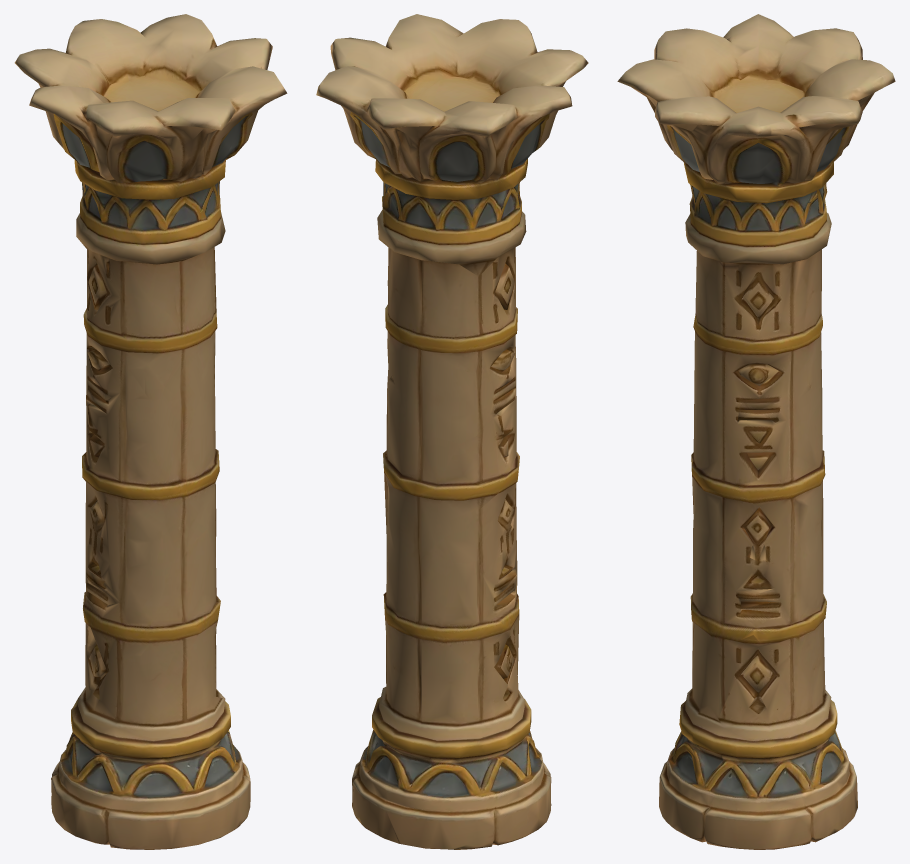
File: pillar.glb
3 views of the same model, side by side, from view 1: azimuth 30°, elevation 25°; view 2: azimuth 150°, elevation 25°; view 3: azimuth 270°, elevation 25° (orthographic).
Visible parts, largest first — view 1: tripo_node_8f566422-54bf-42f7-acf0-ed2039620492; view 2: tripo_node_8f566422-54bf-42f7-acf0-ed2039620492; view 3: tripo_node_8f566422-54bf-42f7-acf0-ed2039620492.
Boxes of the visible parts, bbox=[...] form: tripo_node_8f566422-54bf-42f7-acf0-ed2039620492: bbox=[14, 14, 287, 849]; tripo_node_8f566422-54bf-42f7-acf0-ed2039620492: bbox=[316, 14, 588, 849]; tripo_node_8f566422-54bf-42f7-acf0-ed2039620492: bbox=[617, 14, 895, 849].
Size of the model in its own units: 0.3409 by 1 by 0.34.
1 material, 1 textured.
